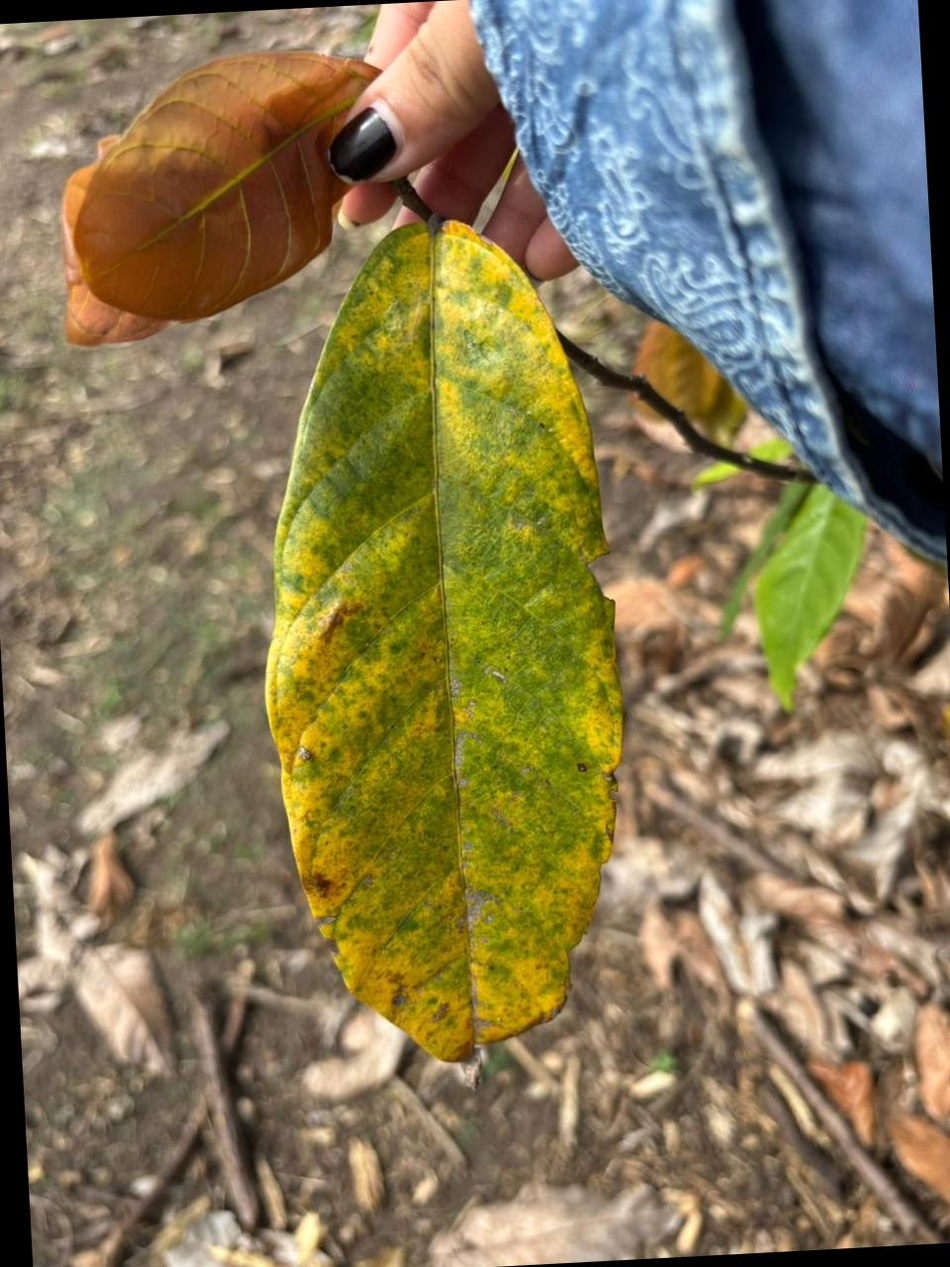Fosforo: (267, 222, 620, 1060)
